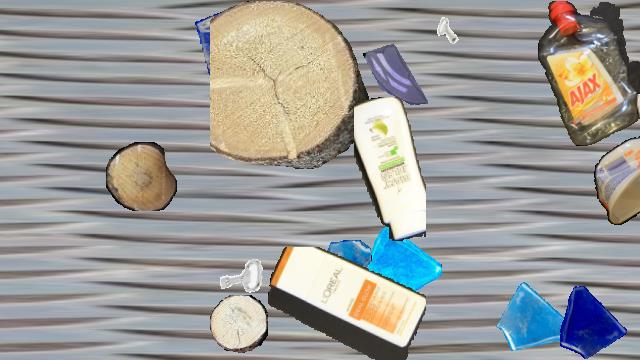glass: (348, 225, 442, 319), (195, 1, 287, 93), (496, 279, 576, 359), (551, 281, 629, 359), (362, 38, 432, 108), (312, 240, 372, 300)
metal: (267, 93, 325, 151), (214, 248, 270, 304), (429, 12, 467, 50)
plastic: (268, 247, 426, 359), (537, 1, 640, 145), (354, 97, 426, 241), (594, 136, 640, 226)
wood: (210, 1, 368, 169), (106, 142, 176, 210), (210, 295, 268, 353), (637, 93, 640, 147)
